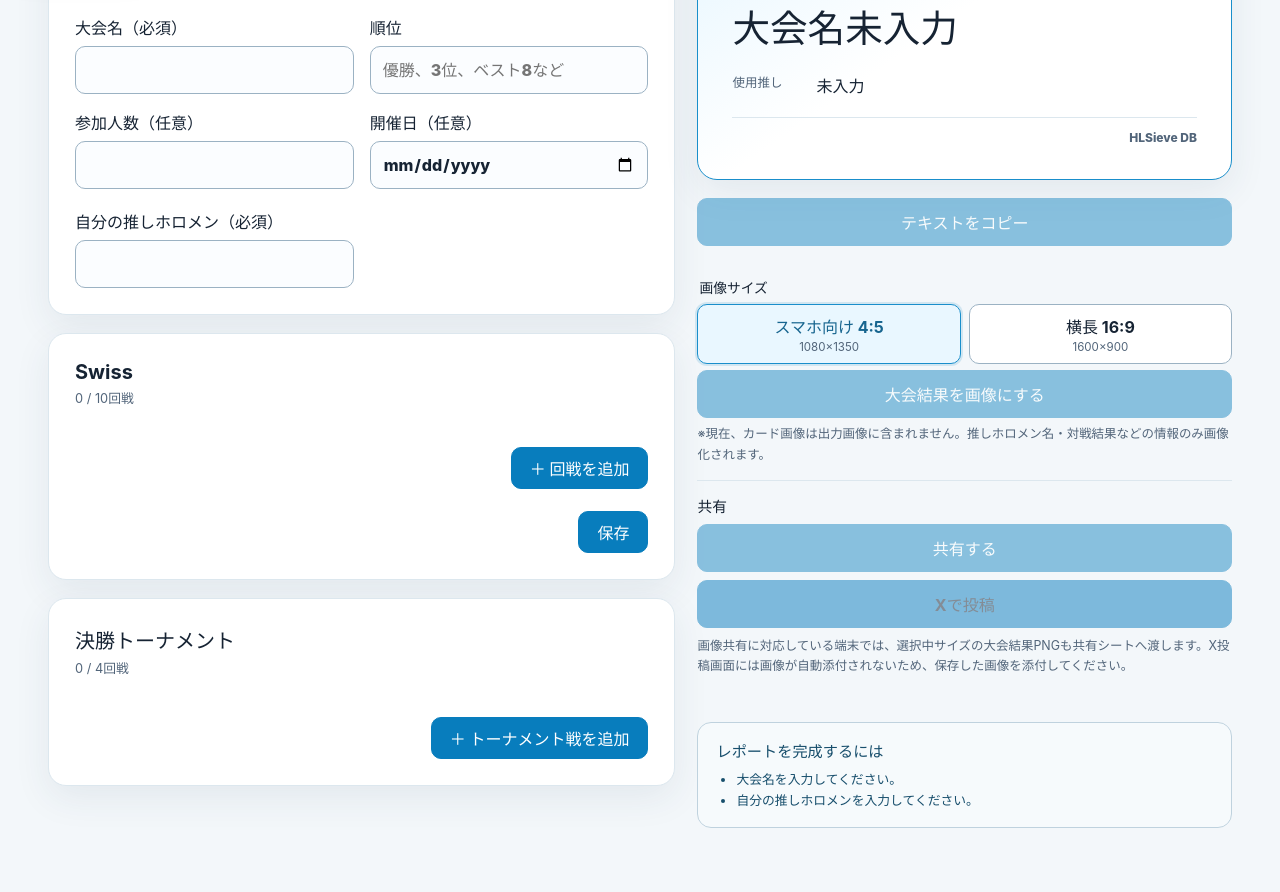
it: TournamentReportPage › supports optional initiative, losses, and tournament summaries
(page scrolled)
Step 1. Click the button "＋ トーナメント戦を追加" → [540, 738], box [431, 717, 648, 759]
(page scrolled)
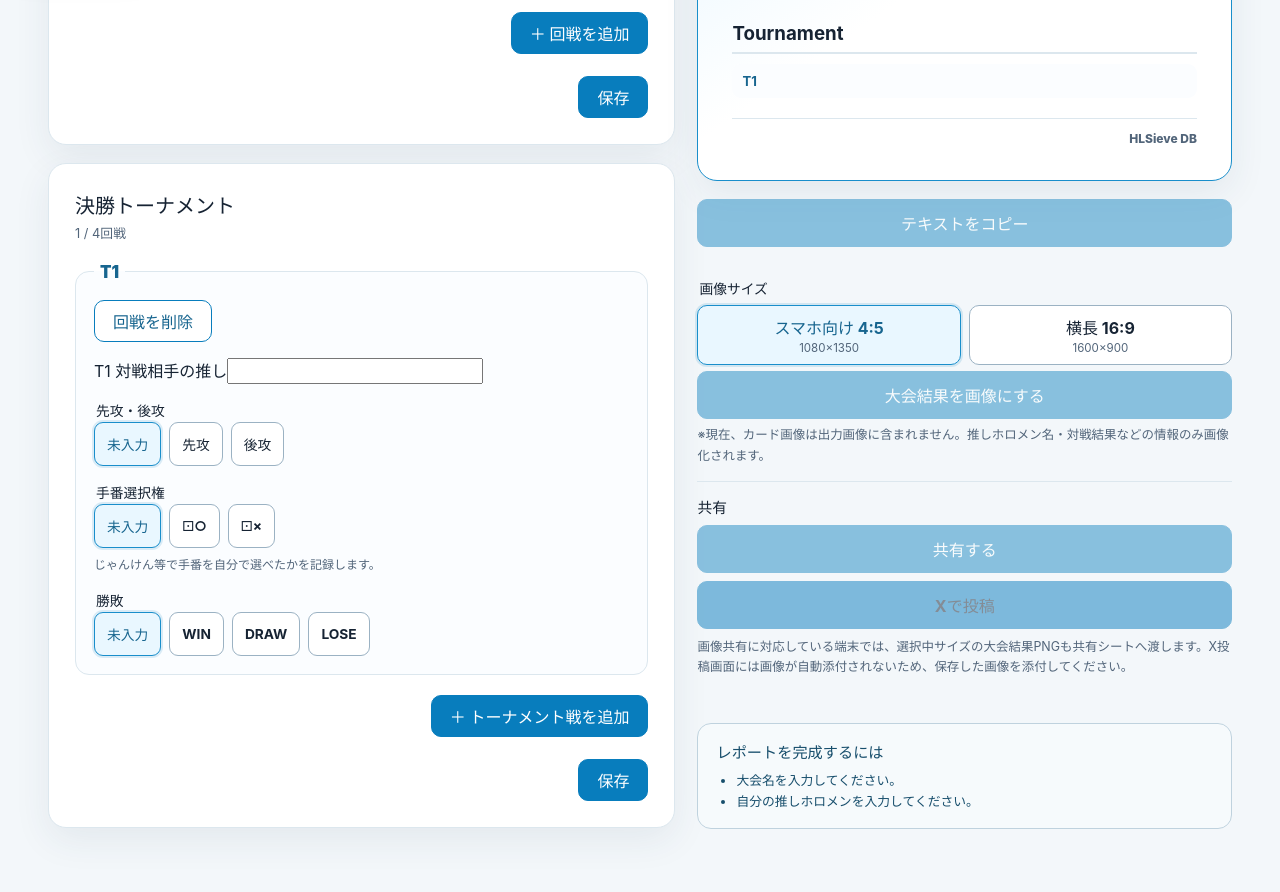
Expected: the radio button labelled "未入力" below "手番選択権" is checked, [94, 504, 161, 548]
Step 2. Click the radio button labelled "後攻" → [258, 444], box [231, 422, 284, 466]
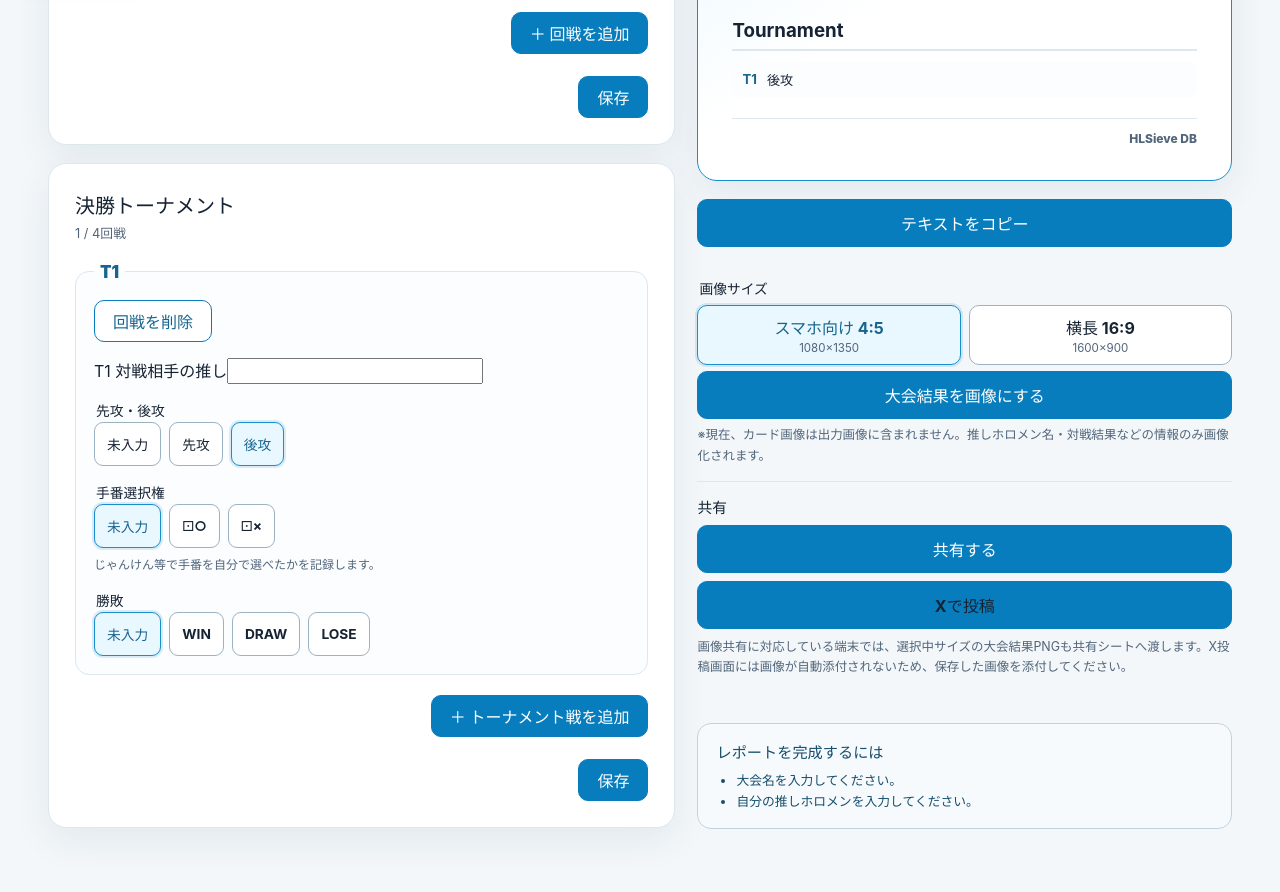
Step 3. Click the radio button named "⚀× 手番選択権なし" → [251, 526], box [228, 504, 275, 548]
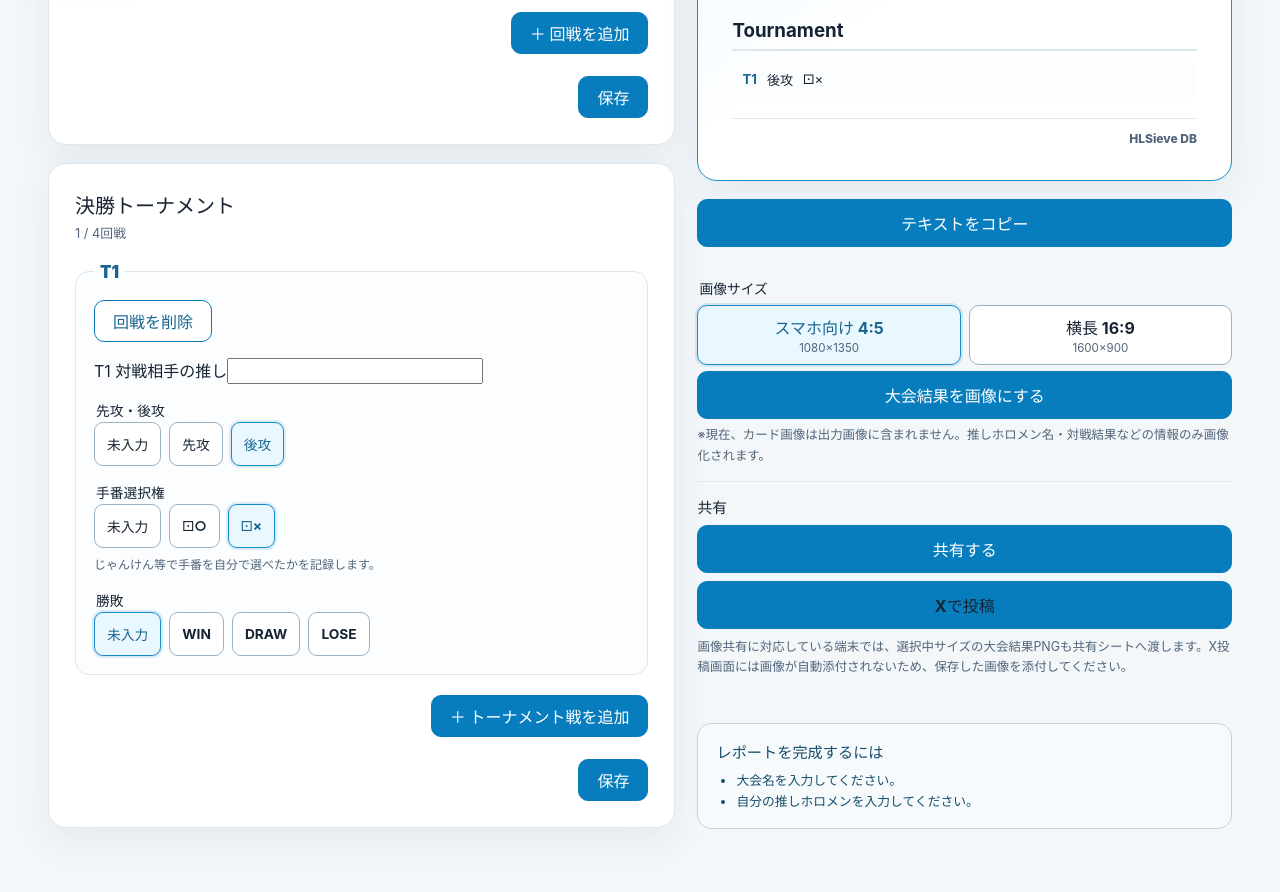
Step 4. Click the radio button labelled "LOSE" → [339, 634], box [308, 612, 370, 656]
(page scrolled)
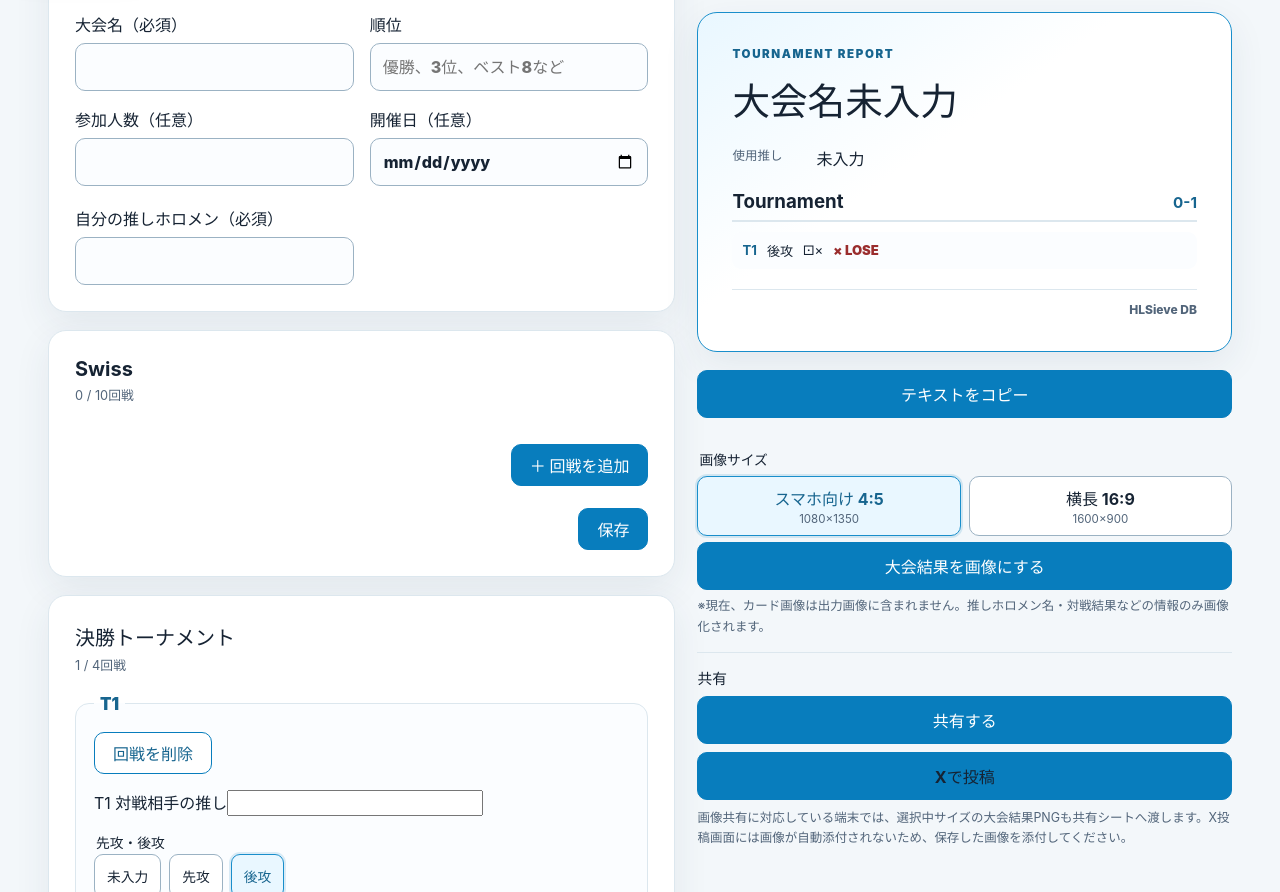
Expected: the element with class "report-preview" shows "後攻", [767, 243, 793, 259]
Expected: the element with class "report-preview" shows "⚀×", [803, 242, 823, 258]
Expected: the element with class "report-preview" shows "× LOSE", [833, 242, 879, 258]
